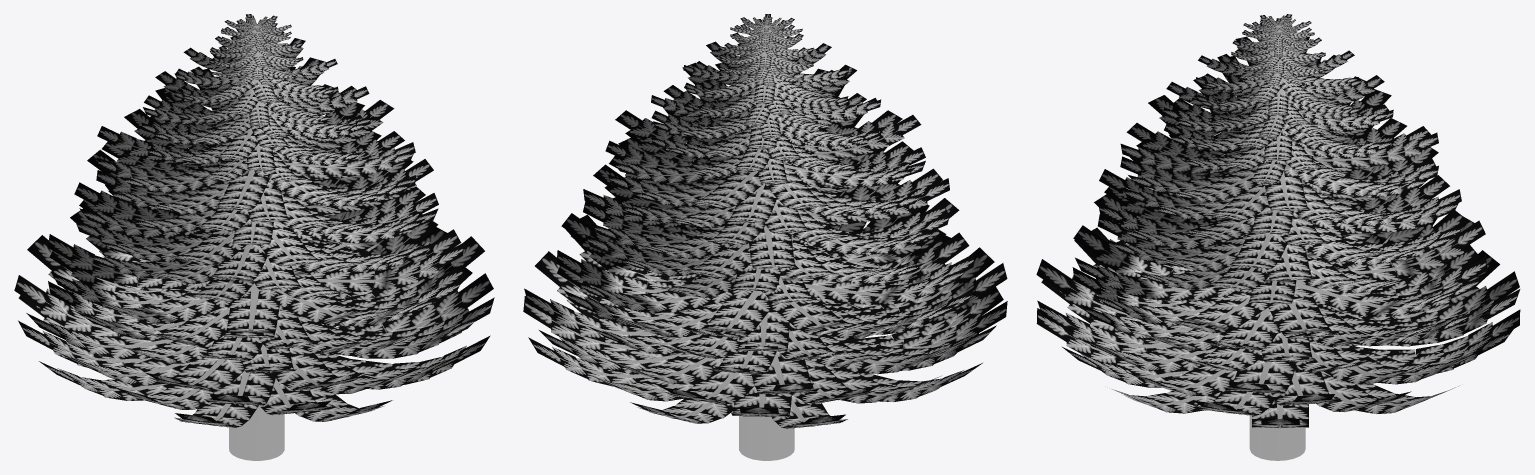
File: SM_Tree_007.fbx
The picture shows the model from 3 angles, left to right: view 1: azimuth 30°, elevation 25°; view 2: azimuth 150°, elevation 25°; view 3: azimuth 270°, elevation 25°; orthographic projection.
Visible parts, largest first — view 1: polySurface8689; view 2: polySurface8689; view 3: polySurface8689.
Boxes of the visible parts, <box> form: polySurface8689: <box>14,14,494,460</box>; polySurface8689: <box>523,14,1007,460</box>; polySurface8689: <box>1036,14,1520,460</box>.
Bounding box in the file's own units: 864 × 841 × 867.
